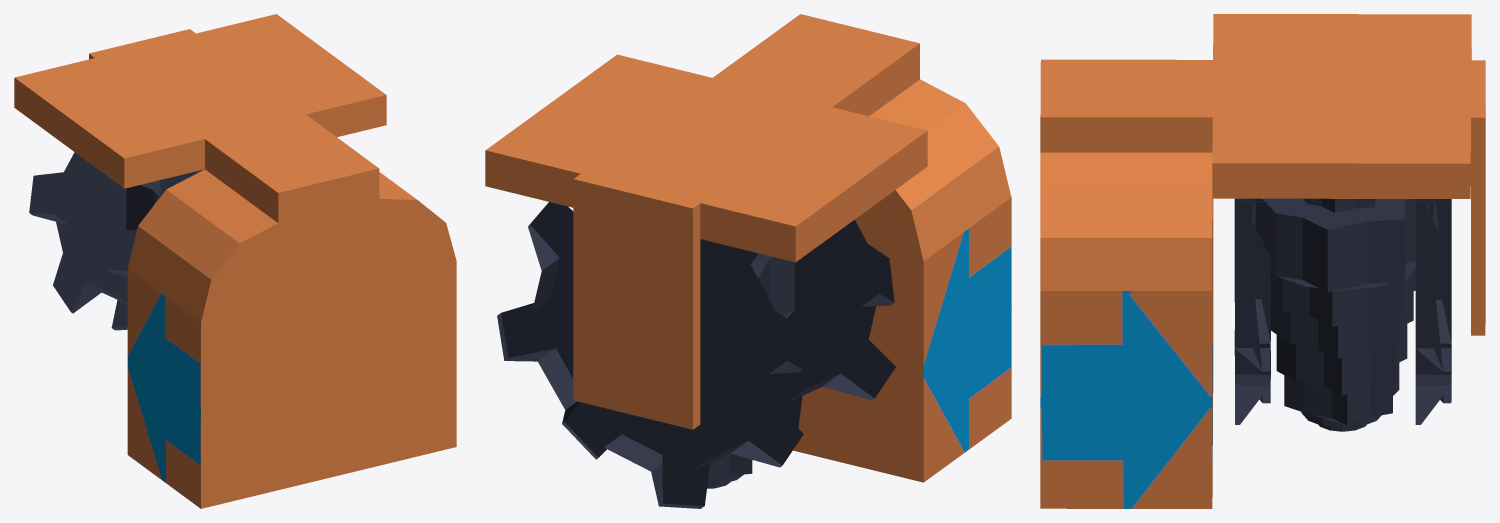
The model's file is extractor_level_2.fbx.
3 renders of one model, left to right at view 1: azimuth 30°, elevation 25°; view 2: azimuth 150°, elevation 25°; view 3: azimuth 270°, elevation 25°, orthographic. The views are drawn at different scales.
Parts seen in each view (by area): view 1: Cube, Plane.002, Plane, Cylinder; view 2: Cube, Plane.002, Plane, Cylinder; view 3: Cube, Cylinder, Plane.002, Plane.
Part boxes in pixels (<box>): Cube: <box>14,14,456,508</box>; Plane.002: <box>29,152,127,330</box>; Plane: <box>106,169,204,276</box>; Cylinder: <box>126,180,161,230</box>; Cube: <box>485,14,1011,482</box>; Plane.002: <box>497,202,803,508</box>; Plane: <box>776,219,895,427</box>; Cylinder: <box>707,253,794,488</box>; Cube: <box>1040,14,1485,508</box>; Cylinder: <box>1255,198,1429,431</box>; Plane.002: <box>1415,199,1451,424</box>; Plane: <box>1234,198,1270,424</box>.
Size of the model in its own units: 103 by 111 by 129.
Materials: 3 (1 with a texture image).
